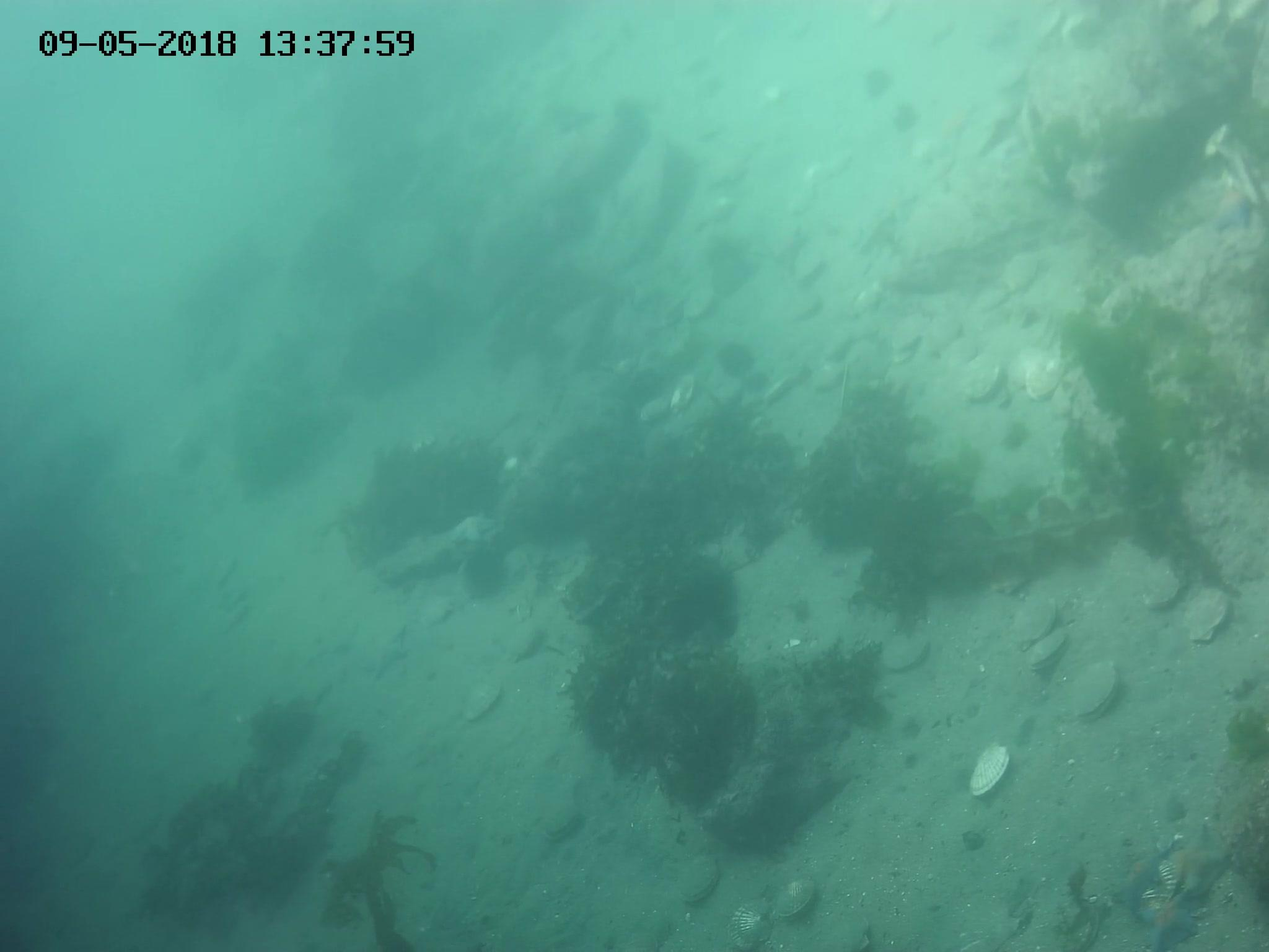holothurian: (1159, 824, 1241, 902), (1131, 889, 1205, 952), (353, 628, 413, 685), (1210, 186, 1260, 239), (450, 506, 500, 550)
scallop: (1068, 658, 1125, 724), (966, 743, 1014, 803), (726, 897, 777, 952), (1182, 588, 1232, 642), (1008, 595, 1058, 646), (674, 854, 721, 907), (760, 878, 820, 919), (814, 912, 872, 952), (1028, 627, 1075, 676), (460, 682, 505, 725), (882, 635, 934, 672), (885, 312, 928, 355), (964, 364, 1008, 406), (1022, 362, 1065, 403), (1141, 576, 1184, 616), (848, 342, 894, 379), (542, 803, 584, 843), (923, 320, 967, 357), (943, 338, 991, 370), (999, 255, 1041, 289), (791, 247, 826, 286), (825, 327, 867, 356), (638, 392, 675, 424), (808, 360, 844, 392), (670, 377, 700, 414), (683, 288, 716, 320), (787, 294, 818, 320)
